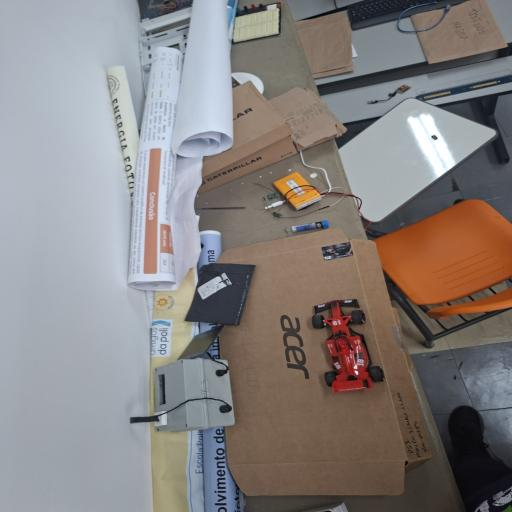carro: (311, 293, 388, 399)
